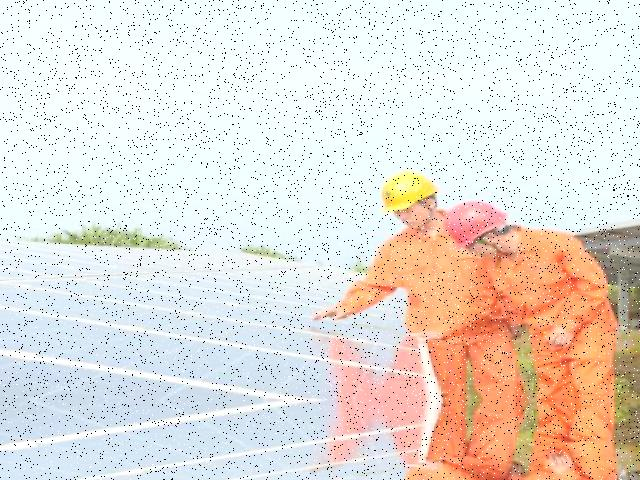Helmet: (436, 196, 512, 251), (373, 165, 438, 222)
